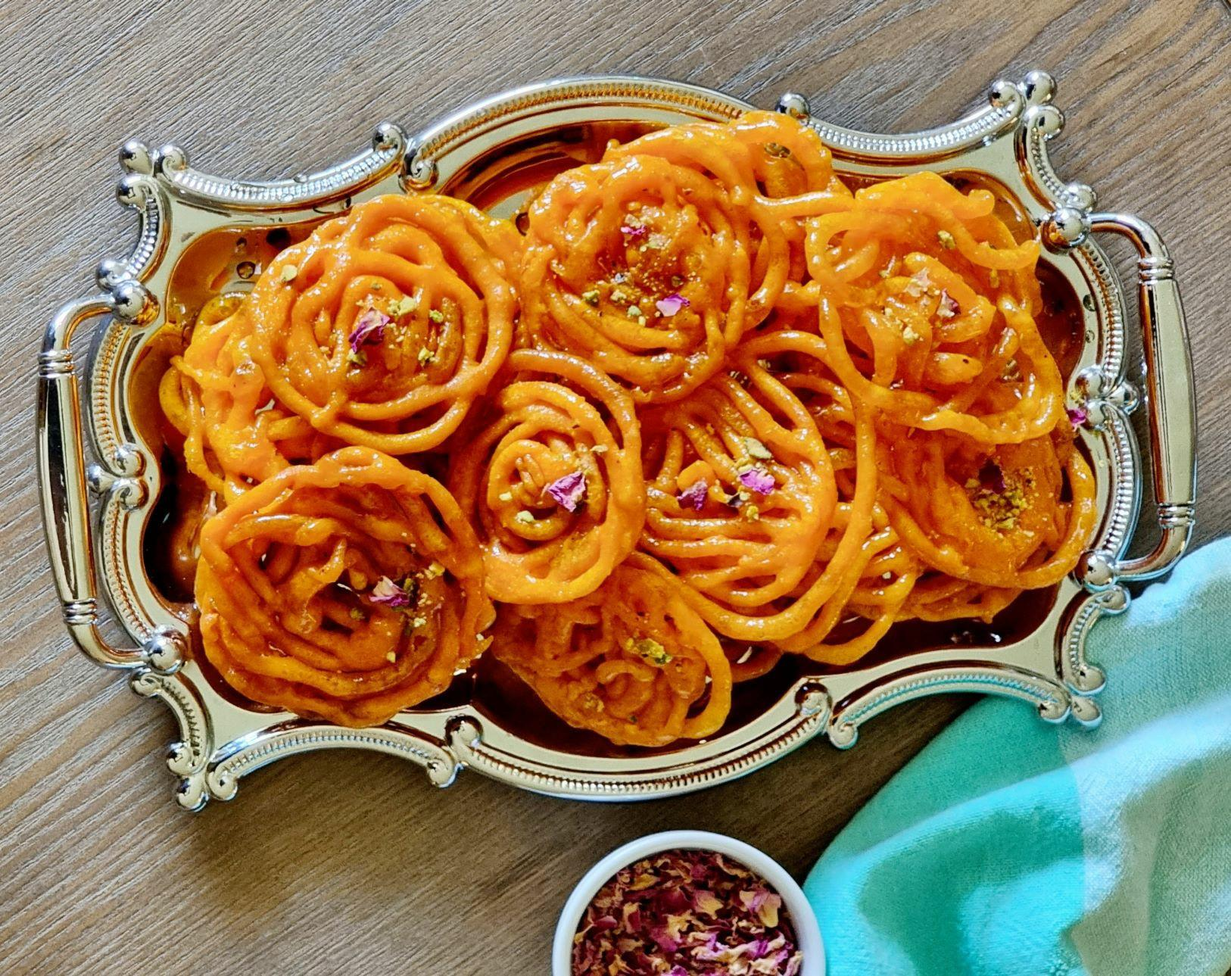Jalebi: (154, 110, 1099, 725)
